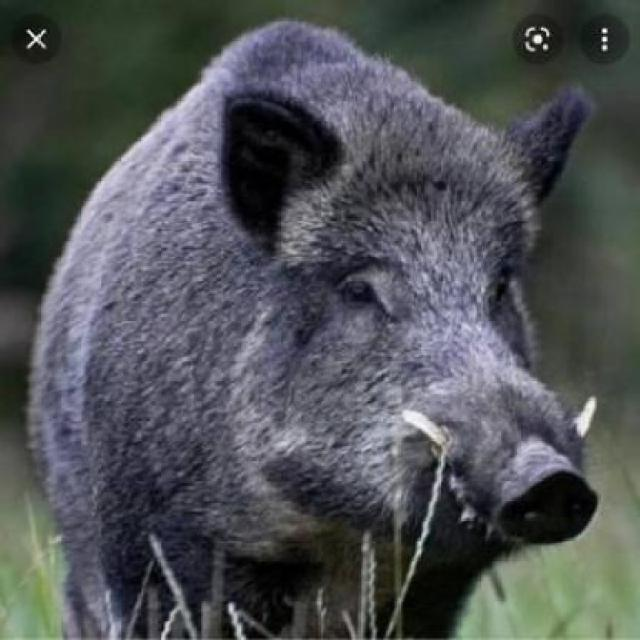wildboar: (18, 14, 608, 640)
